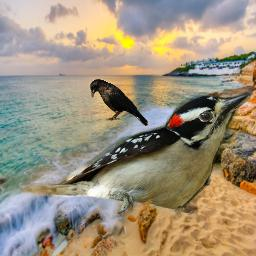Crow: (90, 79, 149, 126)
Woodpecker: (20, 87, 251, 218)
